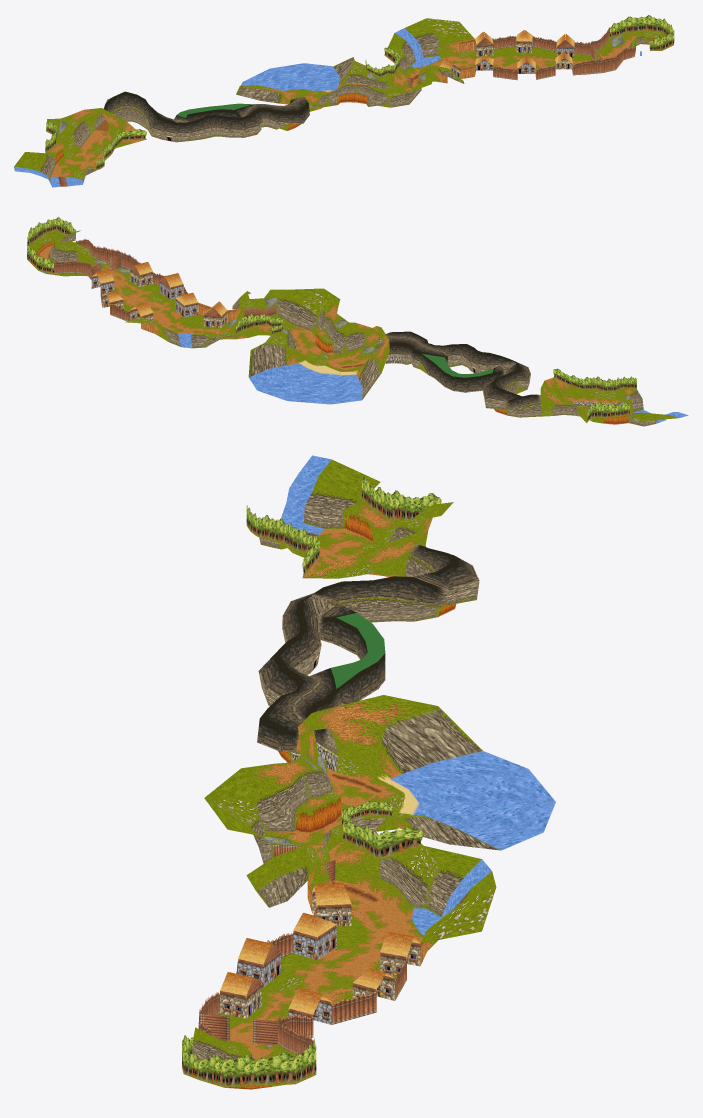
File: Gaule1.obj
The picture shows the model from 3 angles, top to bottom: view 1: azimuth 30°, elevation 25°; view 2: azimuth 150°, elevation 25°; view 3: azimuth 270°, elevation 25°; orthographic projection. The views are drawn at different scales.
Parts seen in each view (by area): view 1: model; view 2: model; view 3: model.
Part boxes in pixels (x1,y1,x2,y2): model: [14, 15, 674, 187]; model: [27, 217, 688, 426]; model: [182, 455, 555, 1089].
Size of the model in its own units: 14250 by 790 by 3910.
1 material, 1 textured.
